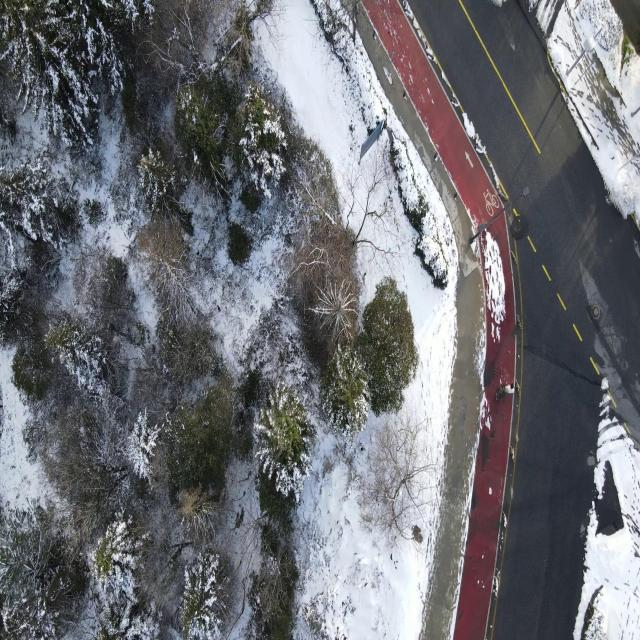p3rson: (496, 384, 507, 401), (504, 381, 515, 394)
